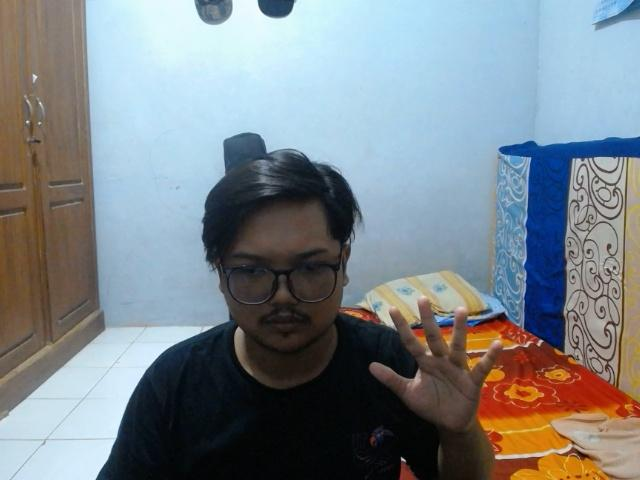Release: (364, 292, 508, 434)
